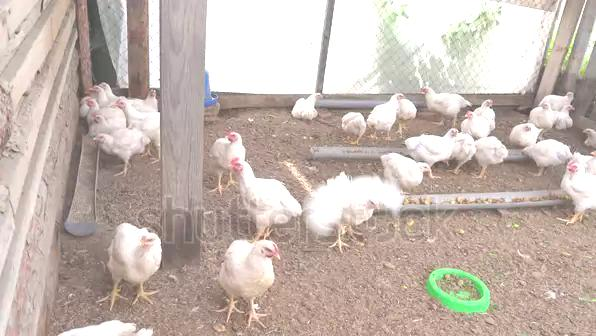Pollos: (217, 234, 282, 306), (233, 158, 300, 220), (108, 222, 161, 282), (330, 182, 379, 224), (379, 151, 432, 188), (90, 127, 151, 154), (409, 126, 460, 158), (522, 138, 566, 174), (564, 161, 595, 210), (113, 96, 161, 126), (368, 94, 405, 129), (421, 85, 464, 114), (474, 135, 510, 165), (287, 92, 325, 120), (335, 111, 366, 145), (210, 132, 248, 158), (507, 119, 543, 145), (462, 111, 492, 133), (556, 103, 577, 129), (527, 103, 552, 124)
